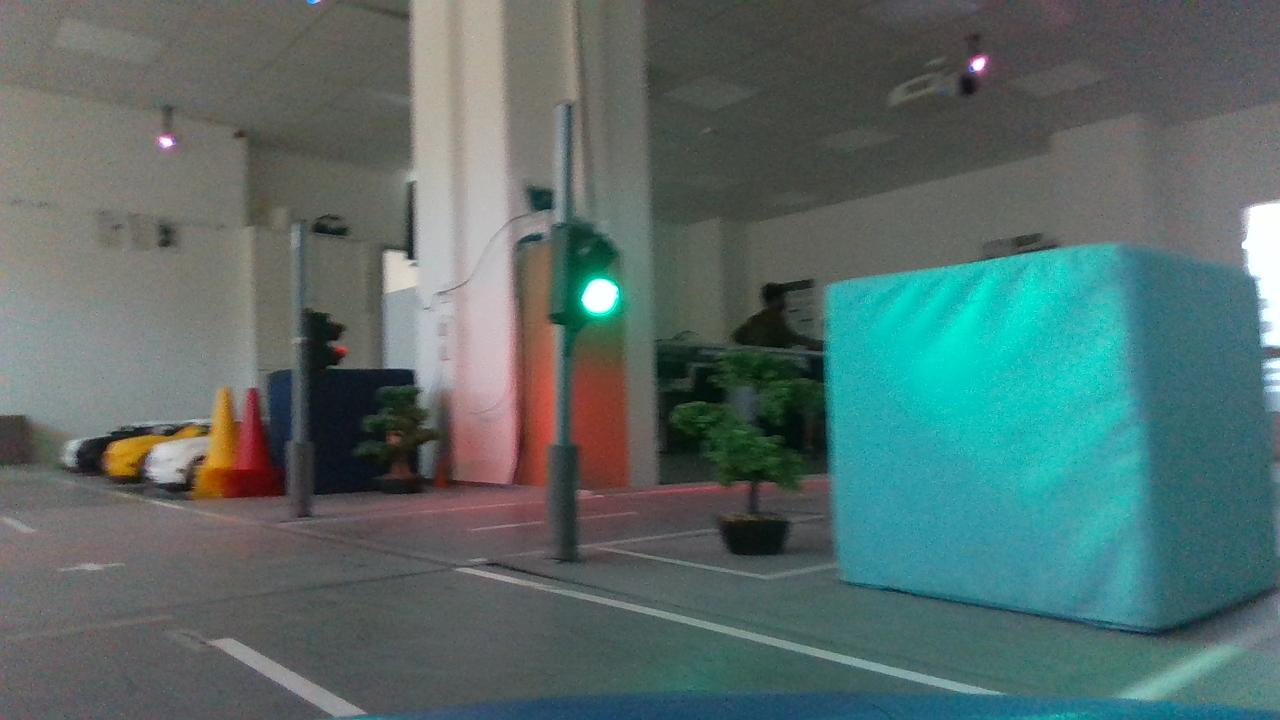traffic_light_green: (535, 205, 628, 335)
